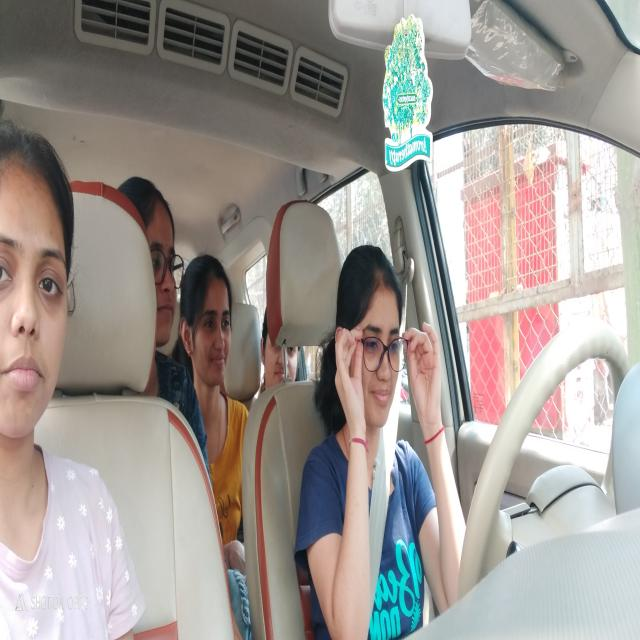person: (0, 123, 76, 472), (335, 238, 410, 450), (118, 175, 180, 356), (182, 251, 236, 384), (258, 297, 300, 396)
